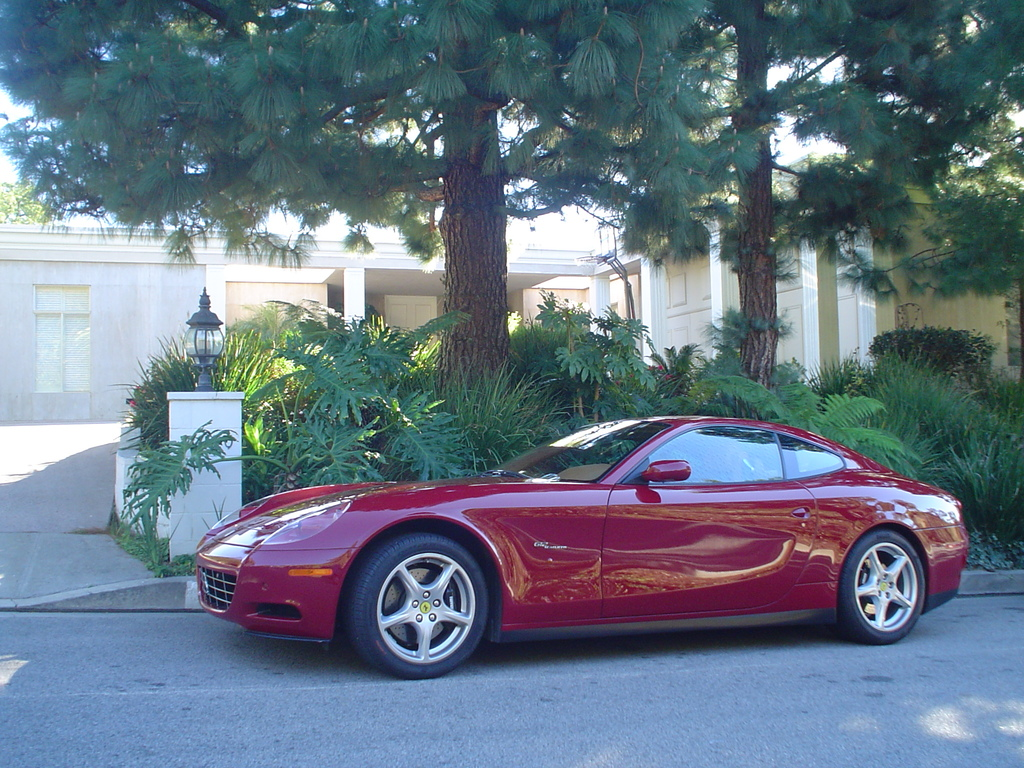Car: (186, 420, 961, 672)
